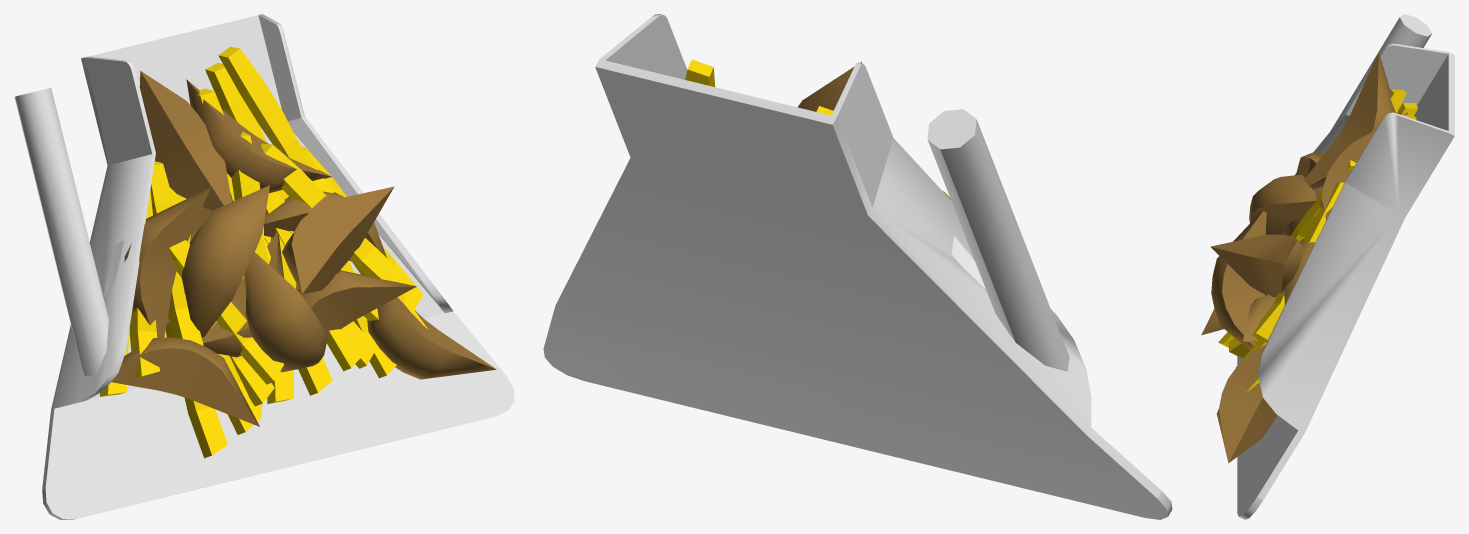
Rendered from совок1.fbx.
3 views of the same model, side by side, from view 1: azimuth 30°, elevation 25°; view 2: azimuth 150°, elevation 25°; view 3: azimuth 270°, elevation 25° (orthographic). The views are drawn at different scales.
Visible parts, largest first — view 1: Совок, Дер на совке, Фри на совке; view 2: Совок, Дер на совке; view 3: Совок, Дер на совке, Фри на совке.
Boxes of the visible parts, x1,y1,x2,y2 form: Совок: (14,14,514,519); Дер на совке: (111,71,496,426); Фри на совке: (100,46,427,458); Совок: (543,14,1172,519); Дер на совке: (798,62,950,199); Совок: (1237,14,1454,519); Дер на совке: (1201,51,1407,463); Фри на совке: (1218,89,1417,392).
Bounding box in the file's own units: 28.03 × 21.01 × 14.13.
